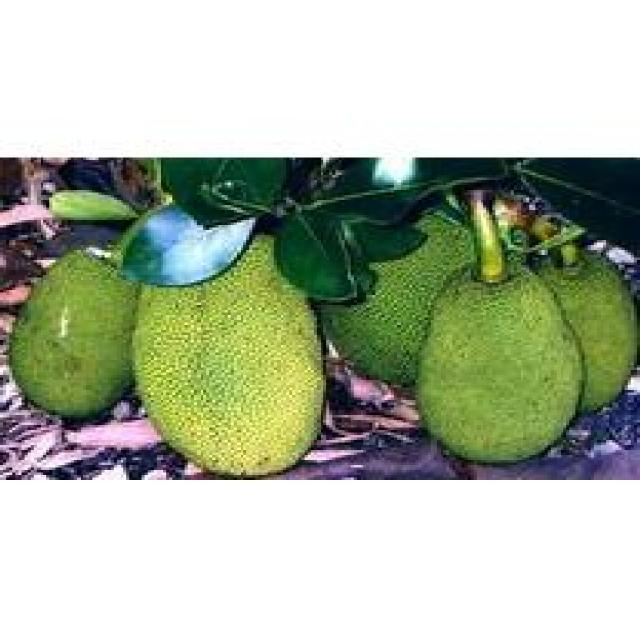Fruit: (298, 225, 637, 475), (113, 218, 344, 482)
